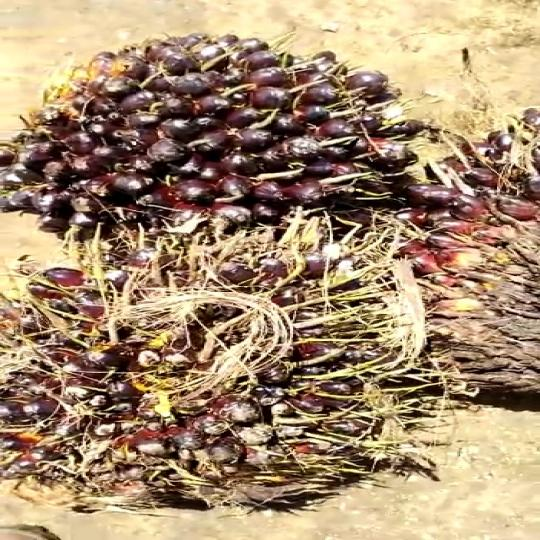mentah: (0, 207, 454, 513), (0, 12, 460, 243)
